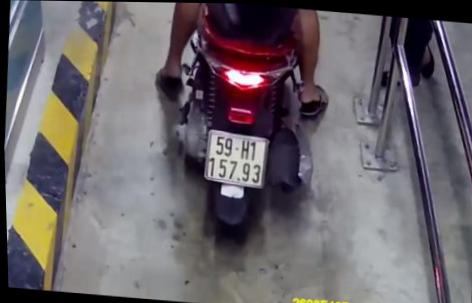LP: (199, 125, 271, 189)
